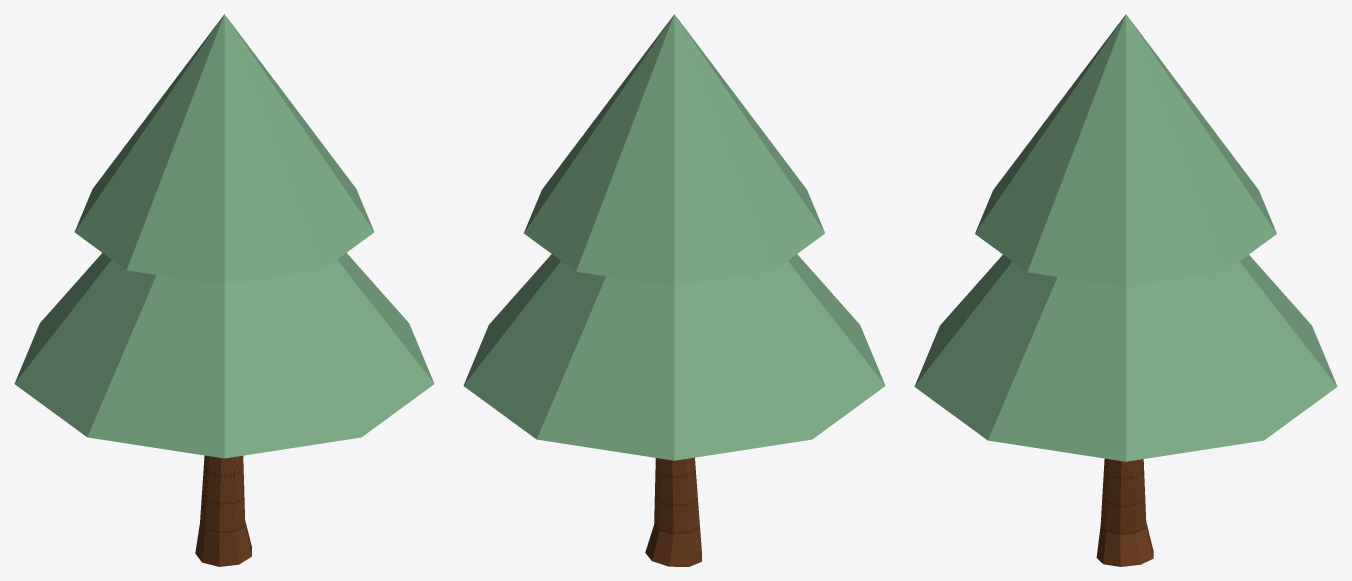
Rendered from pine_sapling.glb.
The picture shows the model from 3 angles, left to right: view 1: azimuth 30°, elevation 25°; view 2: azimuth 150°, elevation 25°; view 3: azimuth 270°, elevation 25°; orthographic projection.
Parts seen in each view (by area): view 1: pine-sapling; view 2: pine-sapling; view 3: pine-sapling.
Boxes of the visible parts, x1=… form: pine-sapling: x1=14, y1=14, x2=434, y2=566; pine-sapling: x1=463, y1=14, x2=885, y2=566; pine-sapling: x1=914, y1=14, x2=1337, y2=566.
Size of the model in its own units: 0.8147 by 1.18 by 0.8272.
Materials: 2 (1 with a texture image).
